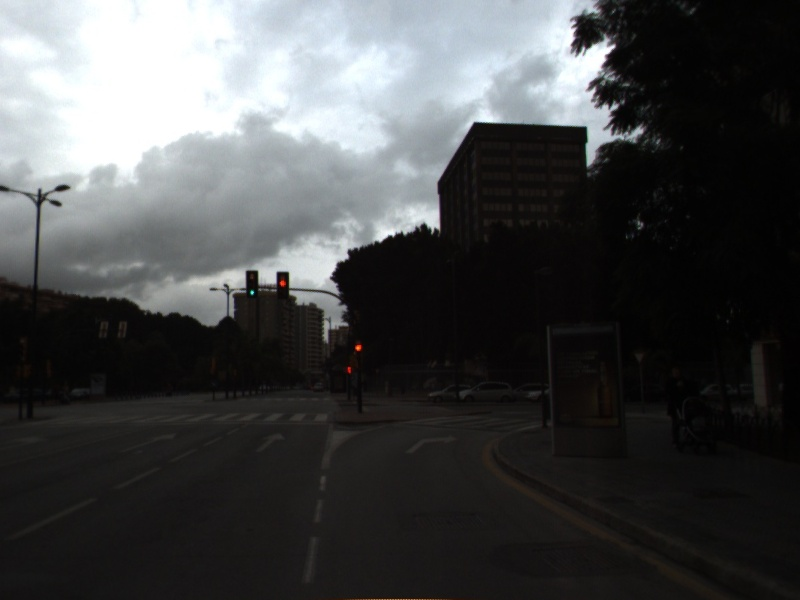RIGHT: (403, 433, 460, 456)
STRAIGHT: (116, 431, 179, 454), (253, 431, 287, 454)
